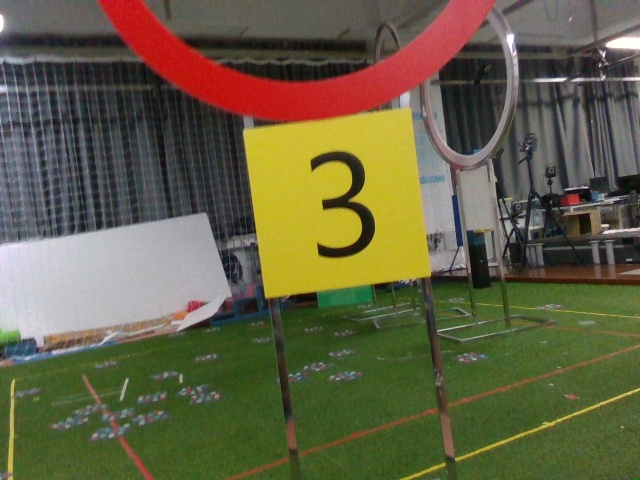target: (260, 129, 417, 280)
